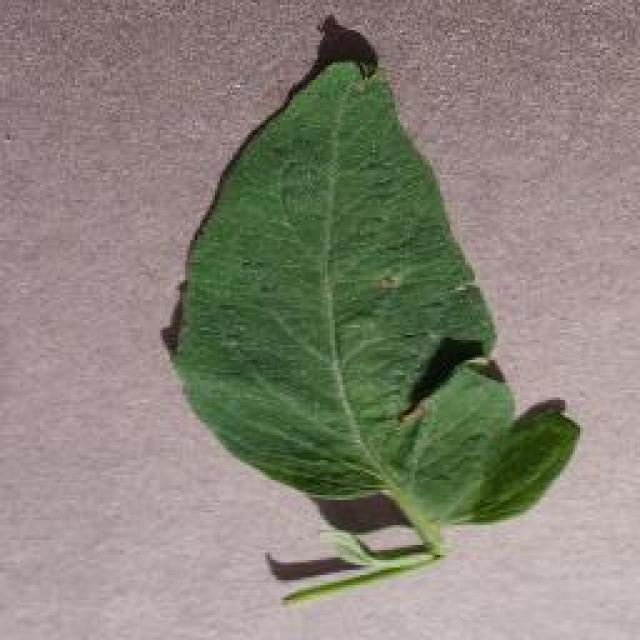Tomato Septoria spot leaf: (169, 54, 581, 526)
